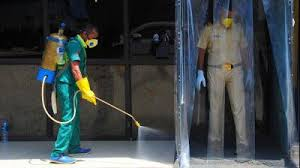mask: (219, 2, 241, 34), (82, 22, 102, 51)
